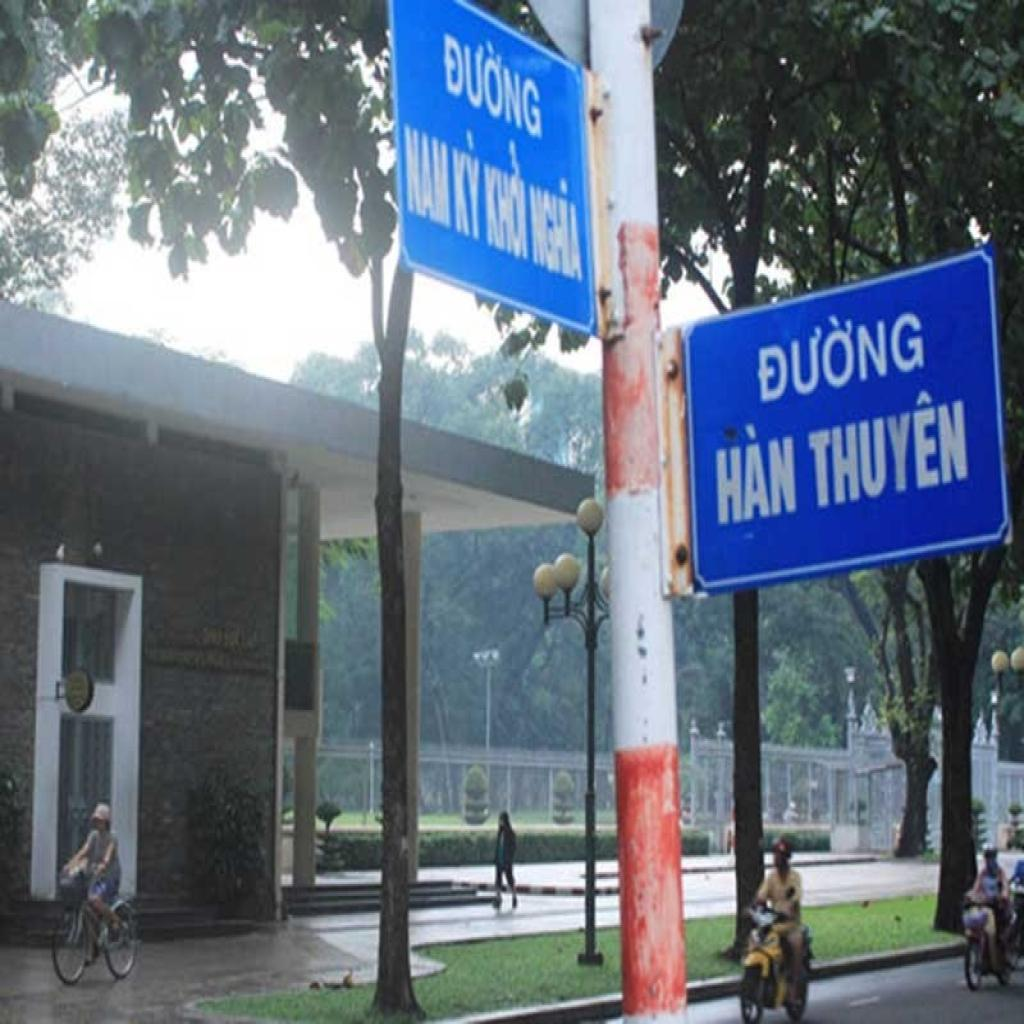text: (804, 379, 973, 514), (749, 288, 928, 410), (439, 20, 545, 148), (708, 414, 800, 532), (529, 165, 586, 292), (480, 130, 531, 268), (400, 118, 454, 236), (447, 123, 484, 246)
